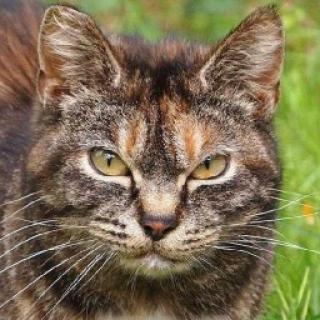cat: (25, 8, 291, 284)
nose: (134, 192, 178, 241)
